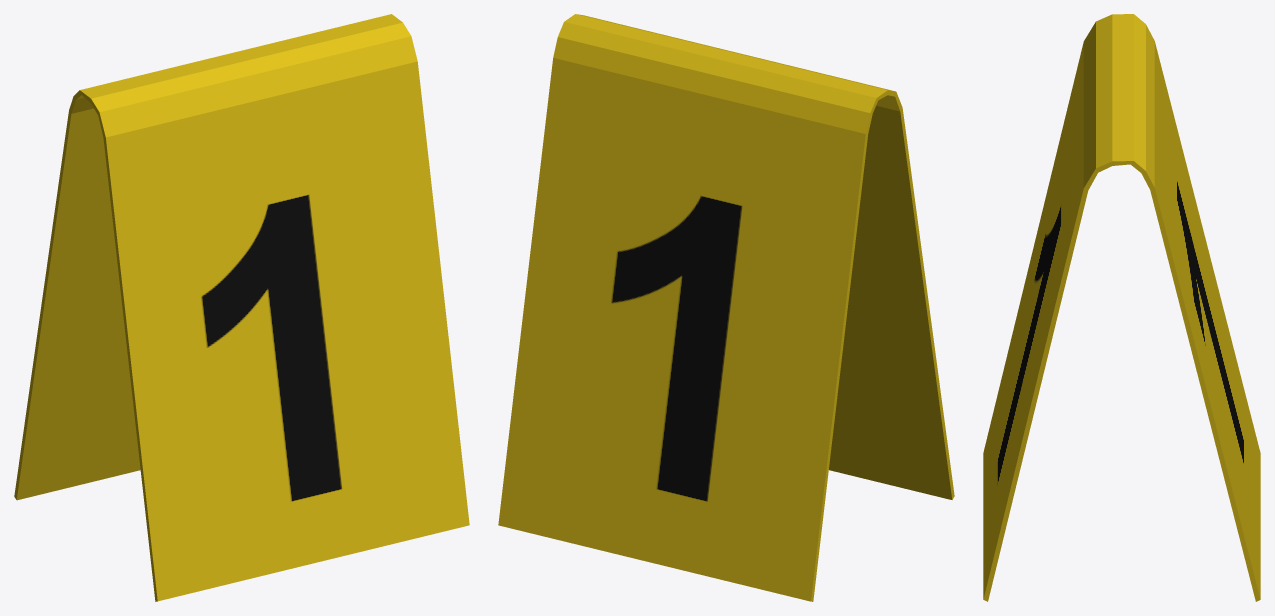
Rendered from ClueSign 1 NEW.fbx.
3 views of the same model, side by side, from view 1: azimuth 30°, elevation 25°; view 2: azimuth 150°, elevation 25°; view 3: azimuth 270°, elevation 25° (orthographic). The views are drawn at different scales.
Visible parts, largest first — view 1: ClueSign 1; view 2: ClueSign 1; view 3: ClueSign 1.
Boxes of the visible parts, <box> form: ClueSign 1: <box>14,14,469,601</box>; ClueSign 1: <box>498,14,954,601</box>; ClueSign 1: <box>983,14,1260,601</box>.
Size of the model in its own units: 126 by 177 by 101.
